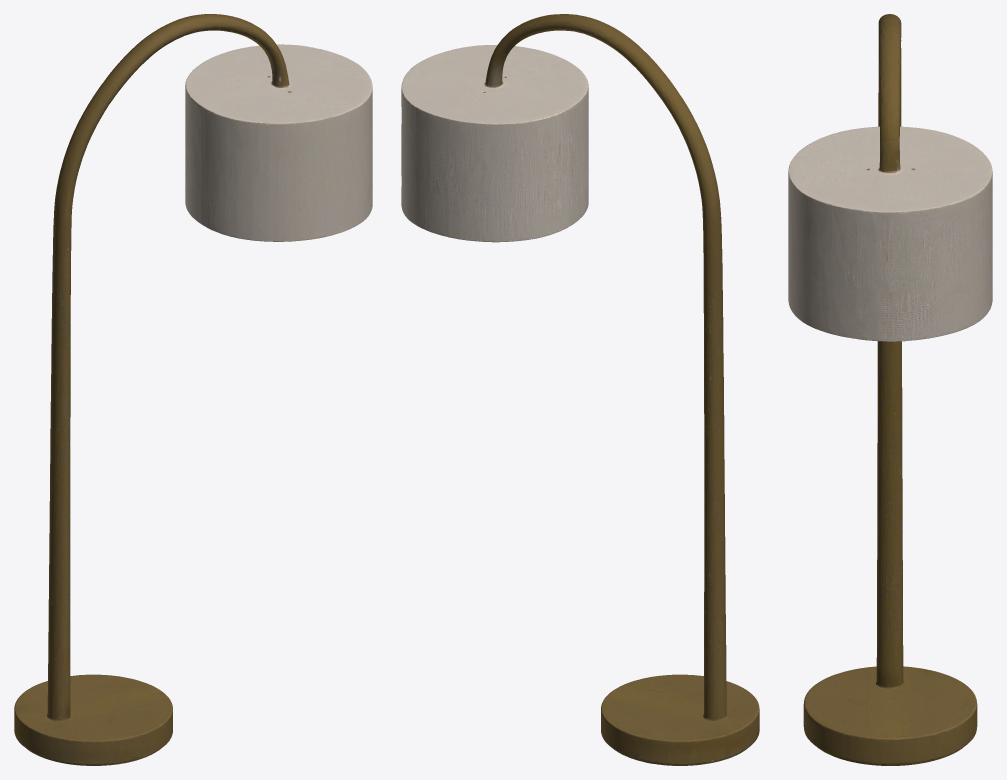
The picture shows the model from 3 angles, left to right: view 1: azimuth 30°, elevation 25°; view 2: azimuth 150°, elevation 25°; view 3: azimuth 270°, elevation 25°; orthographic projection. The views are drawn at different scales.
Visible parts, largest first — view 1: friday_axis_yaw90; view 2: friday_axis_yaw90; view 3: friday_axis_yaw90.
Boxes of the visible parts, box(x1,y1,x2,y2) form: friday_axis_yaw90: box(14, 14, 372, 765); friday_axis_yaw90: box(401, 14, 759, 765); friday_axis_yaw90: box(788, 14, 992, 765).
Size of the model in its own units: 0.9335 by 1.85 by 0.4518.
Materials: 1 (1 with a texture image).
